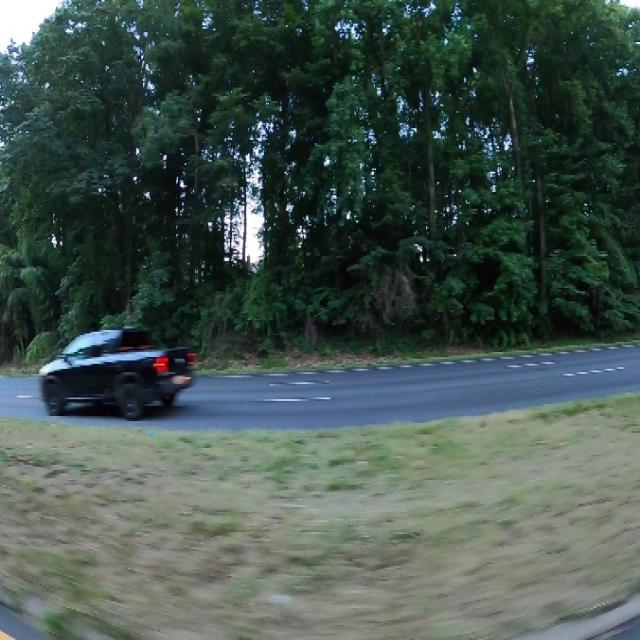cars: (30, 324, 200, 421)
